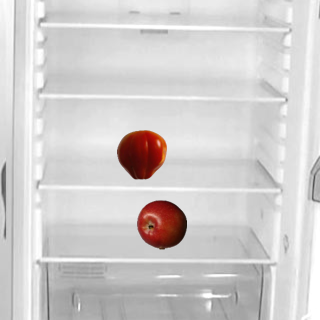Apple Braeburn: (136, 199, 186, 249)
Tomato 1: (116, 129, 166, 179)
